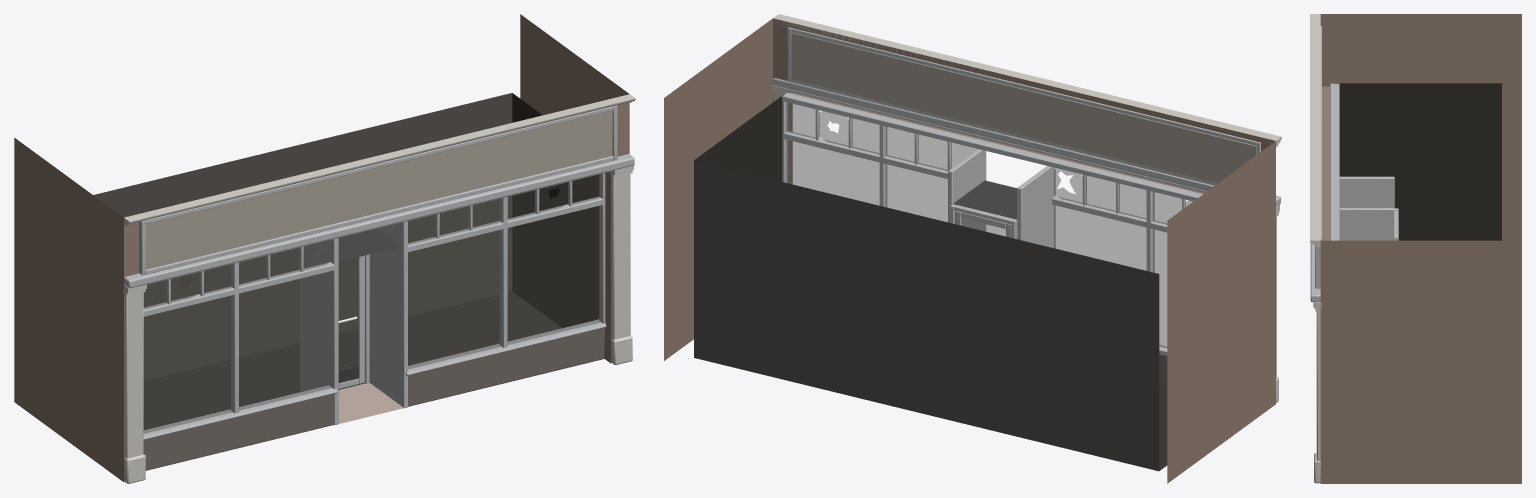
Rendered from shop_dark_8a.glb.
3 views of the same model, side by side, from view 1: azimuth 30°, elevation 25°; view 2: azimuth 150°, elevation 25°; view 3: azimuth 270°, elevation 25° (orthographic). The views are drawn at different scales.
Visible parts, largest first — view 1: shop_dark_8a; view 2: shop_dark_8a; view 3: shop_dark_8a.
Boxes of the visible parts, x1=… form: shop_dark_8a: x1=14, y1=14, x2=635, y2=483; shop_dark_8a: x1=664, y1=14, x2=1281, y2=483; shop_dark_8a: x1=1310, y1=14, x2=1521, y2=483.
Size of the model in its own units: 8 by 4 by 3.16.
